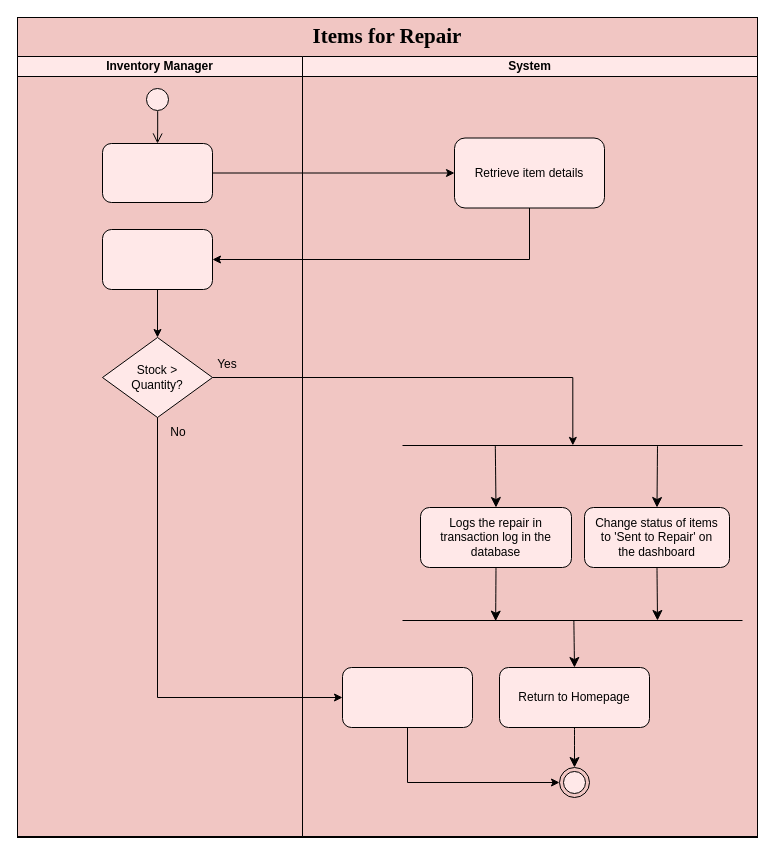
Some shapes in this 775 by 855 pixel diagram are drawn without their labels. Here are the shapes that lost their labels. From the top down, the centre of each, then its label:
(157,172): Scan item barcode to send for repair
(157,259): Enter quantity of item being sent for repair
(407,697): Display "Not enough stock. Please enter a valid number."
